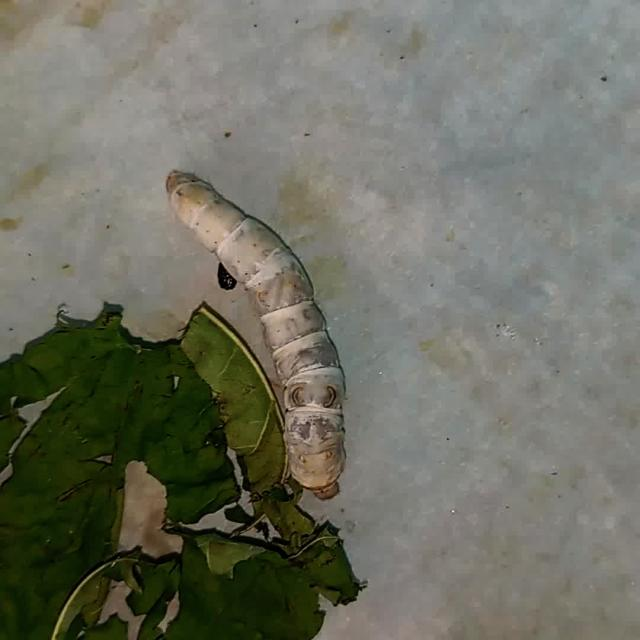Grasserie: (156, 162, 362, 511)
